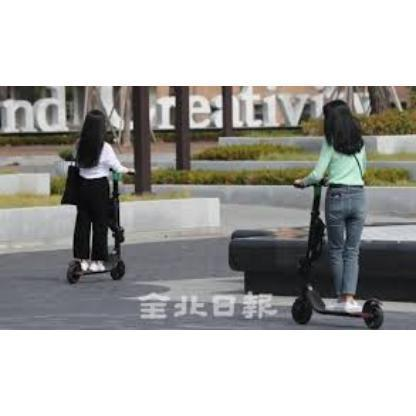with scooter: (290, 100, 384, 330), (67, 110, 136, 285)
